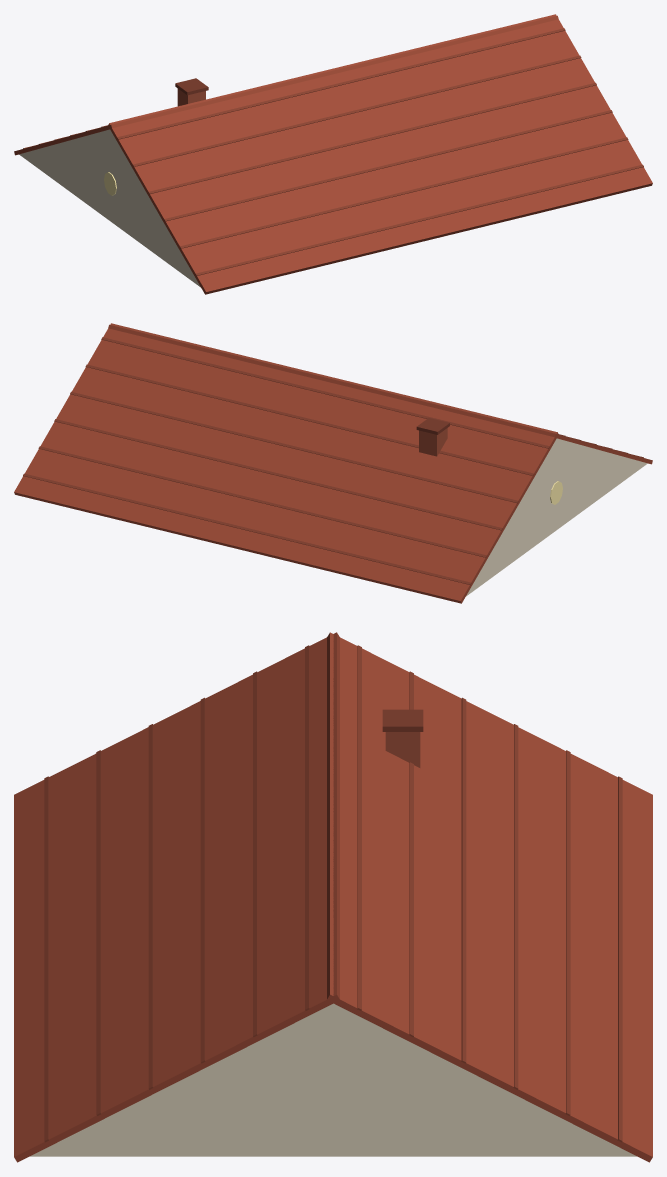
The model's file is roof.fbx.
The picture shows the model from 3 angles, top to bottom: view 1: azimuth 30°, elevation 25°; view 2: azimuth 150°, elevation 25°; view 3: azimuth 270°, elevation 25°; orthographic projection. The views are drawn at different scales.
Visible parts, largest first — view 1: roof; view 2: roof; view 3: roof.
Boxes of the visible parts, x1=… form: roof: x1=14, y1=14, x2=652, y2=294; roof: x1=14, y1=323, x2=652, y2=603; roof: x1=14, y1=632, x2=652, y2=1162.
Size of the model in its own units: 59.28 by 12.81 by 44.13.
